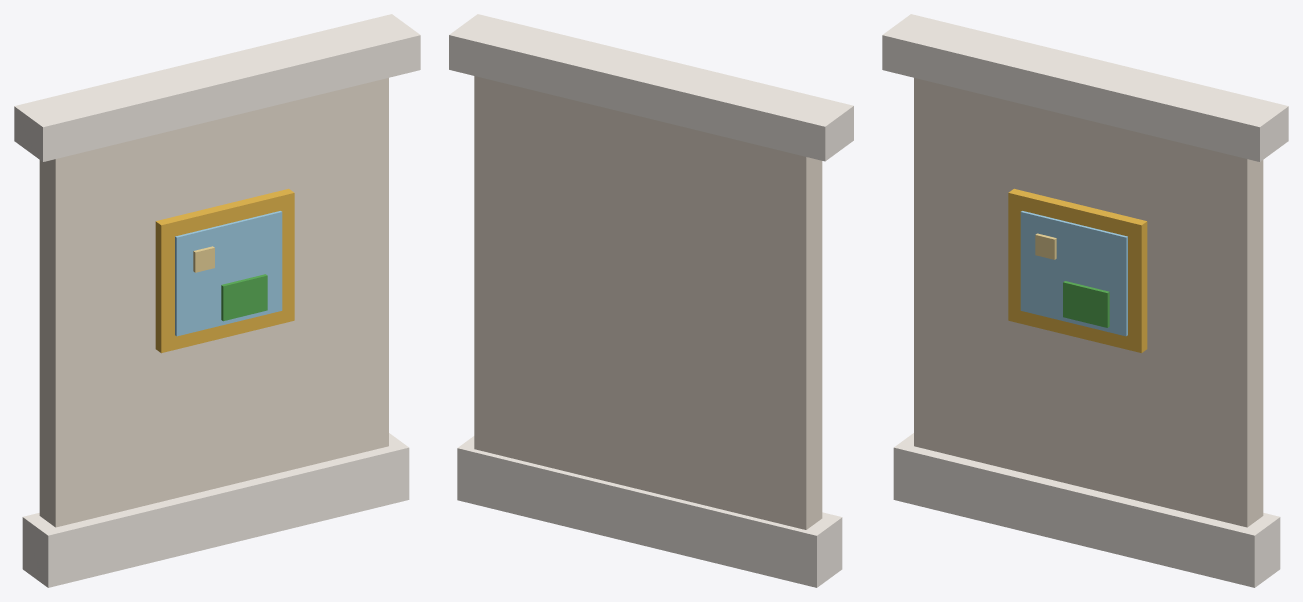
Rendered from CatCafe_Style_PawPrint.glb.
3 renders of one model, left to right at view 1: azimuth 30°, elevation 25°; view 2: azimuth 150°, elevation 25°; view 3: azimuth 330°, elevation 25°, orthographic.
Parts seen in each view (by area): view 1: CatCafe_Style_PawPrint_Swatch, CatCafe_Style_PawPrint; view 2: CatCafe_Style_PawPrint_Swatch, CatCafe_Style_PawPrint; view 3: CatCafe_Style_PawPrint_Swatch, CatCafe_Style_PawPrint.
Part boxes in pixels (x1,y1,x2,y2): CatCafe_Style_PawPrint_Swatch: (39, 78, 388, 527); CatCafe_Style_PawPrint: (14, 14, 420, 587); CatCafe_Style_PawPrint_Swatch: (474, 76, 822, 529); CatCafe_Style_PawPrint: (449, 14, 853, 587); CatCafe_Style_PawPrint_Swatch: (914, 78, 1263, 527); CatCafe_Style_PawPrint: (882, 14, 1288, 587).
Size of the model in its own units: 2.72 by 3.2 by 0.36.
1 material, 1 textured.
